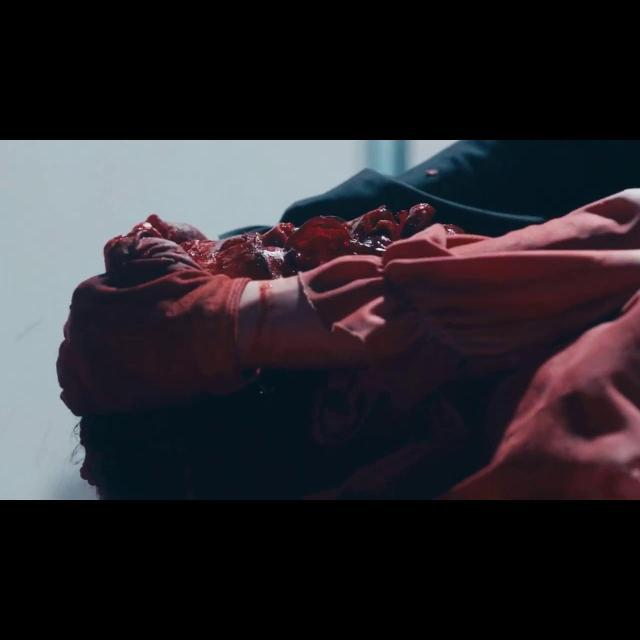blood: (54, 186, 640, 500)
